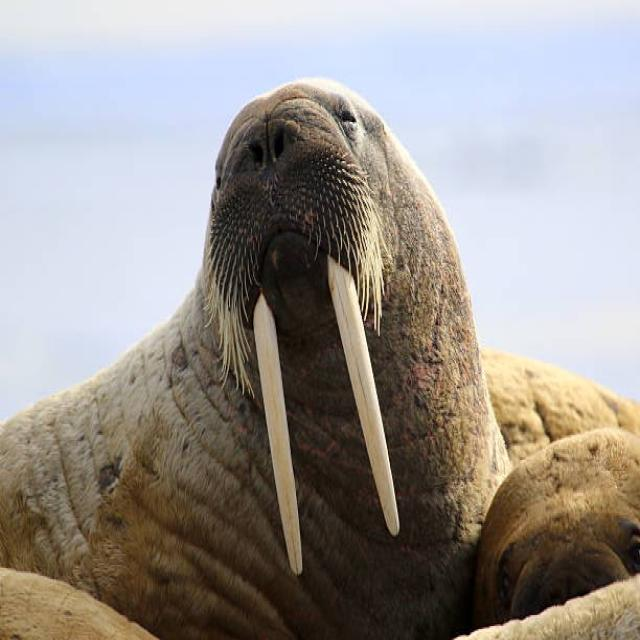walrus: (13, 32, 587, 604)
